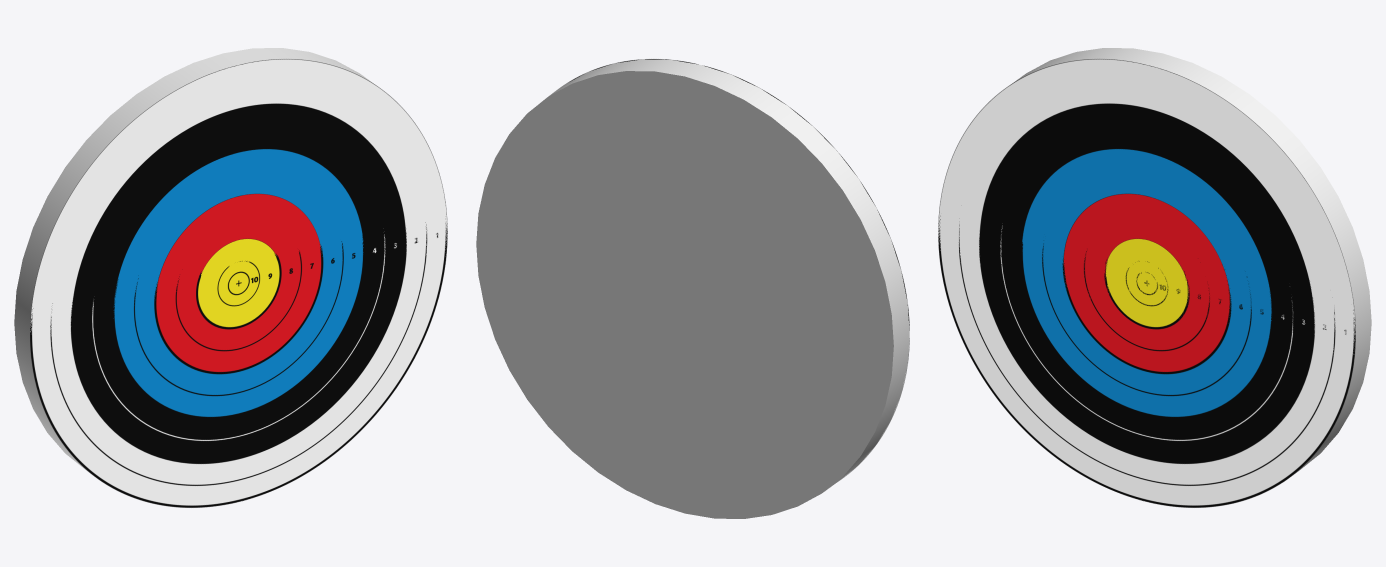
File: target_122x122.glb
The picture shows the model from 3 angles, left to right: view 1: azimuth 30°, elevation 25°; view 2: azimuth 150°, elevation 25°; view 3: azimuth 330°, elevation 25°; orthographic projection.
Parts seen in each view (by area): view 1: target_05, target_04, target_03, target_02, target_06_lines, target_sides, target_01; view 2: target_sides, target_06_lines; view 3: target_05, target_04, target_03, target_02, target_06_lines, target_sides, target_01.
Boxes of the visible parts, left/top/right/bottom form: target_05: left=30, top=59, right=447, bottom=505; target_04: left=71, top=103, right=406, bottom=461; target_03: left=113, top=149, right=363, bottom=416; target_02: left=156, top=194, right=321, bottom=371; target_06_lines: left=30, top=59, right=447, bottom=507; target_sides: left=14, top=48, right=414, bottom=473; target_01: left=198, top=239, right=279, bottom=327; target_sides: left=476, top=59, right=909, bottom=518; target_06_lines: left=566, top=59, right=909, bottom=478; target_05: left=938, top=59, right=1355, bottom=505; target_04: left=979, top=103, right=1314, bottom=461; target_03: left=1022, top=149, right=1271, bottom=416; target_02: left=1063, top=194, right=1230, bottom=371; target_06_lines: left=938, top=59, right=1355, bottom=507; target_sides: left=1012, top=48, right=1371, bottom=507; target_01: left=1105, top=238, right=1188, bottom=327.
Bounding box in the file's own units: 1.22 × 1.22 × 0.08.
Materials: 7 (6 with a texture image).
